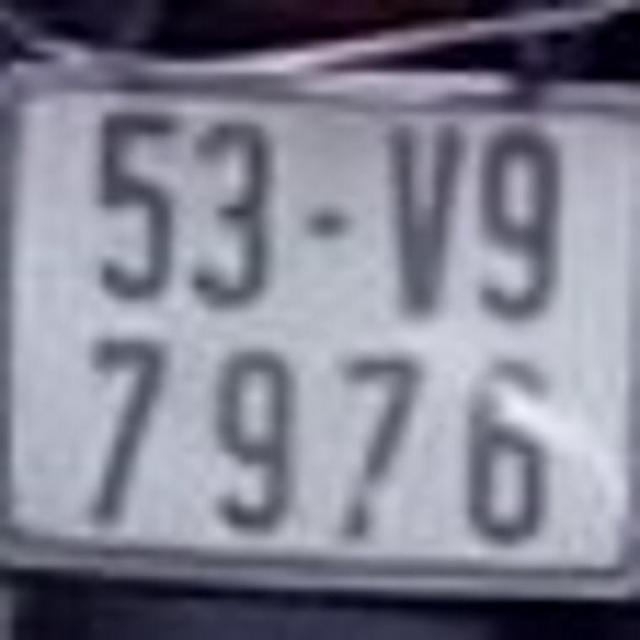3: (194, 118, 273, 316)
5: (94, 100, 186, 303)
6: (464, 348, 552, 546)
7: (87, 332, 172, 527), (342, 352, 422, 546)
9: (481, 122, 562, 328), (220, 350, 298, 535)
V: (385, 116, 468, 316)
